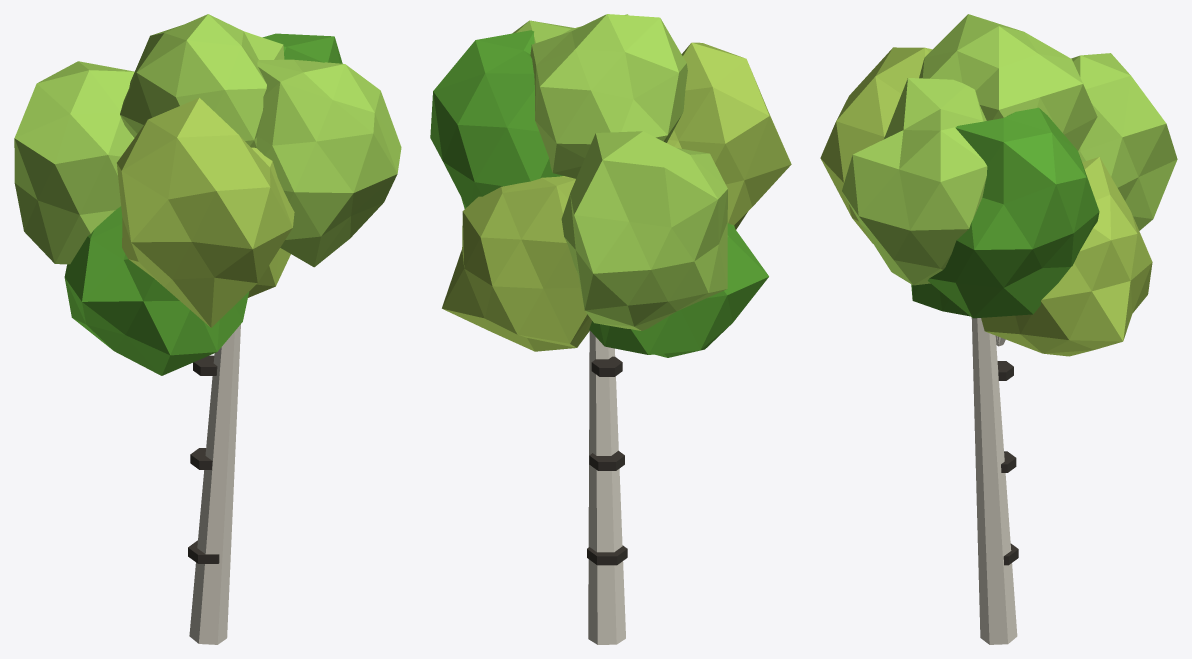
The model's file is tree_birch_1.glb.
3 views of the same model, side by side, from view 1: azimuth 30°, elevation 25°; view 2: azimuth 150°, elevation 25°; view 3: azimuth 270°, elevation 25° (orthographic). The views are drawn at different scales.
Parts seen in each view (by area): view 1: tree_birch_1; view 2: tree_birch_1; view 3: tree_birch_1.
Boxes of the visible parts, left/top/right/bottom form: tree_birch_1: left=14, top=14, right=401, bottom=644; tree_birch_1: left=430, top=14, right=791, bottom=644; tree_birch_1: left=820, top=14, right=1177, bottom=644.
Size of what is drawn, in the model's own units: 3.65 by 6.95 by 3.67.
